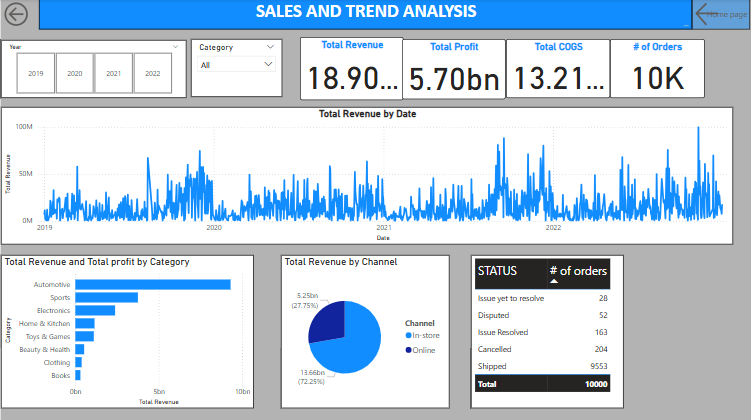

The dashboard page shown, as its layout file describes it:
{"tool":"powerbi","page":{"name":"Sales Analysis","canvas":[1280,720],"ordinal":1},"visuals":[{"type":"lineChart","fields":{"Y":["Sales table.Total Revenue"],"Category":["Sales table.Date"]},"box":[0,185.2,1251.4,234.7],"z":0,"group":"g1"},{"type":"clusteredBarChart","fields":{"Y":["Sales table.Total Revenue"],"Category":["Products.Category"]},"box":[0,438,432.3,262.2],"z":0},{"type":"pieChart","fields":{"Category":["Sales table.Channel"],"Y":["Sales table.Total Revenue"]},"box":[479.1,438,287.7,262.2],"z":1000},{"type":"tableEx","fields":{"Values":["Sales table.STATUS","Sales table.# of orders"]},"box":[803.6,438,260.8,262.2],"z":2000},{"type":"actionButton","box":[1180.8,0,99.4,51.8],"z":3000},{"type":"actionButton","box":[0,0,64.8,51.8],"z":4000},{"type":"slicer","fields":{"Values":["Dates.Year"]},"box":[0,69.4,316.8,99.4],"z":4000,"group":"g1"},{"type":"group","id":"g1","title":"Group 2","box":[0,64.8,1251.4,355.2],"z":5000},{"type":"slicer","fields":{"Values":["Products.Category"]},"box":[324,68.6,155.5,99.4],"z":5000,"group":"g1"},{"type":"textbox","title":"SALES AND TREND ANALYSIS","box":[66.6,0,1115.4,52.4],"z":6000},{"type":"card","title":"Total Revenue","fields":{"Values":["Sales table.Total Revenue"]},"box":[510.9,64.8,177.1,108],"z":8000,"group":"g2"},{"type":"card","title":"Total Profit","fields":{"Values":["Sales table.Total profit"]},"box":[686,69,176.8,102.7],"z":9000,"group":"g2"},{"type":"card","title":"Total COGS","fields":{"Values":["Sales table.Total COGS"]},"box":[863.3,68.6,178.4,101.4],"z":10000,"group":"g2"},{"type":"card","title":"# of Orders","fields":{"Values":["Sales table.# of orders"]},"box":[1040.3,68.6,161.6,101.4],"z":11000,"group":"g2"},{"type":"group","id":"g2","title":"Group 1","box":[510.9,64.8,691,108],"z":11001,"group":"g1"}]}

Visuals, with their boxes in screenshot pixels (x1, y1, x2, y2), scaled from the page's 1280x720 canvas onto the 751x420 screenshot:
lineChart - Sales table.Total Revenue x Sales table.Date: Rect(0, 108, 734, 245)
clusteredBarChart - Sales table.Total Revenue x Products.Category: Rect(0, 256, 254, 408)
pieChart - Sales table.Channel x Sales table.Total Revenue: Rect(281, 256, 450, 408)
tableEx - Sales table.STATUS x Sales table.# of orders: Rect(471, 256, 625, 408)
actionButton: Rect(693, 0, 750, 30)
actionButton: Rect(0, 0, 38, 30)
slicer - Dates.Year: Rect(0, 40, 186, 98)
"Group 2" group: Rect(0, 38, 734, 245)
slicer - Products.Category: Rect(190, 40, 281, 98)
"SALES AND TREND ANALYSIS" textbox: Rect(39, 0, 694, 31)
"Total Revenue" card: Rect(300, 38, 404, 101)
"Total Profit" card: Rect(402, 40, 506, 100)
"Total COGS" card: Rect(507, 40, 611, 99)
"# of Orders" card: Rect(610, 40, 705, 99)
"Group 1" group: Rect(300, 38, 705, 101)
